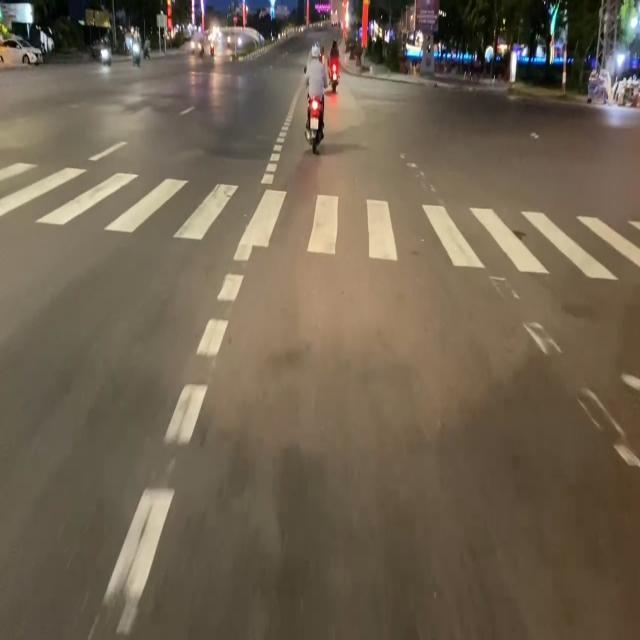walk-crossing: (5, 161, 640, 281)
